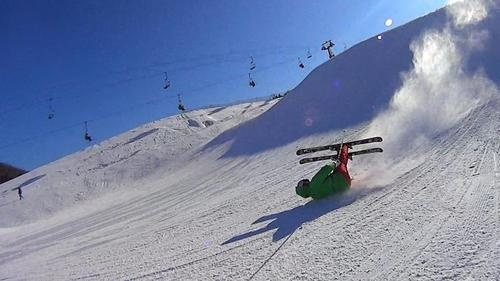falling: (281, 128, 392, 206)
